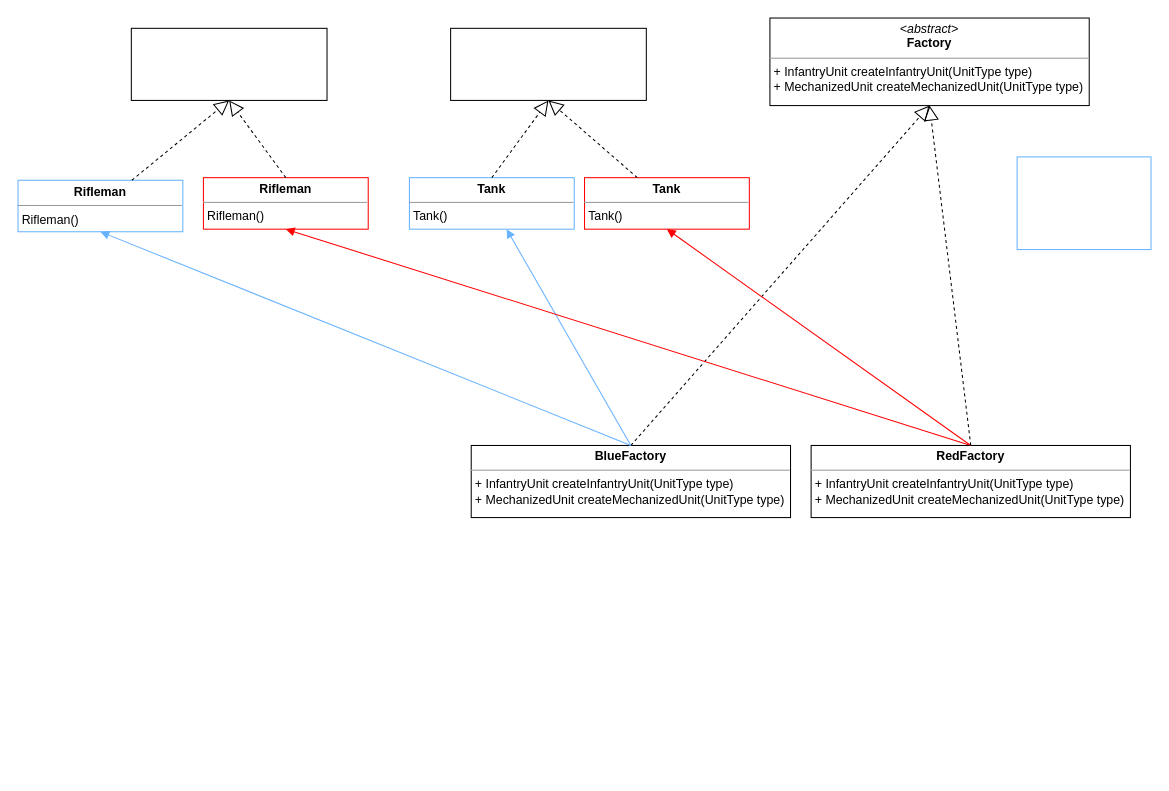
This 1169x791 diagram has some shape labels left out. Here are the shapes that lost their labels. From the top down, the centre of each, then its label:
the point at 228,63: <abstract> InfantryUnit protected InfantryUnit()
the point at 548,63: <abstract> MechanizedUnit protected MechanizedUnit()
the point at 1083,203: <<enumeration>> UnitType RIFLEMAN, TANK
